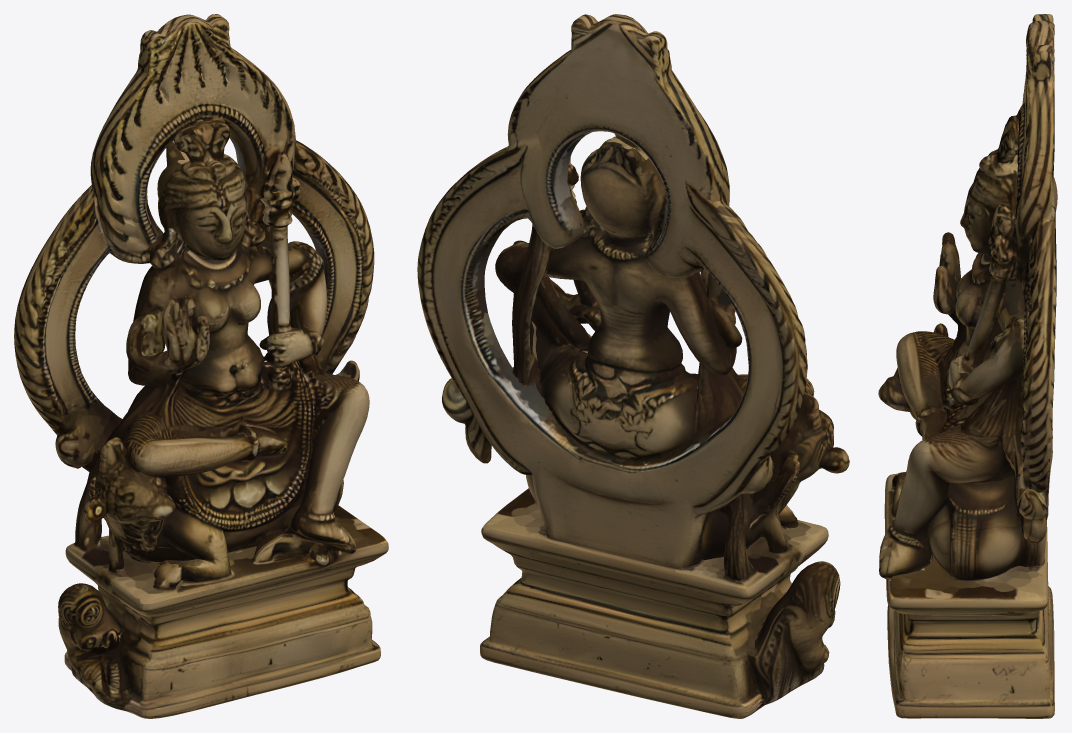
3 renders of one model, left to right at view 1: azimuth 30°, elevation 25°; view 2: azimuth 150°, elevation 25°; view 3: azimuth 270°, elevation 25°, orthographic. The views are drawn at different scales.
Parts seen in each view (by area): view 1: textured_mesh; view 2: textured_mesh; view 3: textured_mesh.
Part boxes in pixels (<box>): textured_mesh: <box>14,14,388,718</box>; textured_mesh: <box>417,14,849,718</box>; textured_mesh: <box>878,14,1057,718</box>.
Bounding box in the file's own units: 1.19 × 1.99 × 0.5087.
Materials: 1 (1 with a texture image).
